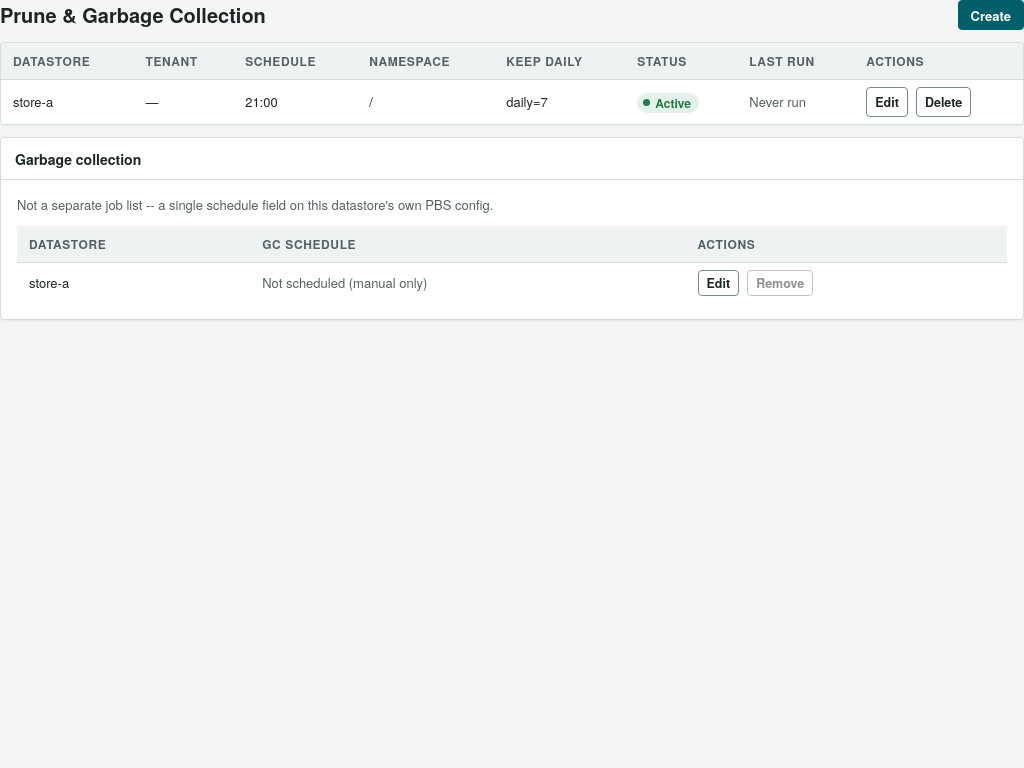
Scenario: JobsPruneGcPage › confirms a successful prune job delete
Expected: the text "21:00" is shown, [233,80,357,124]
Click the button "Delete": {"x": 944, "y": 102} [916,87,971,117]
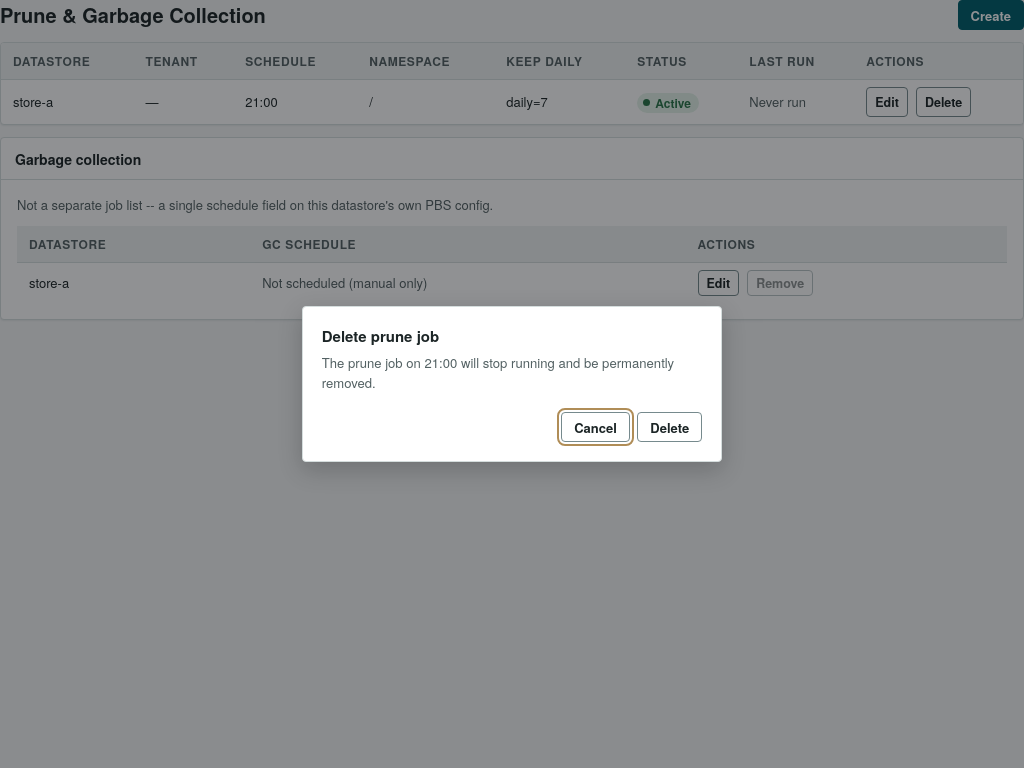
Click the button "Delete": {"x": 670, "y": 427} [637,412,702,442]
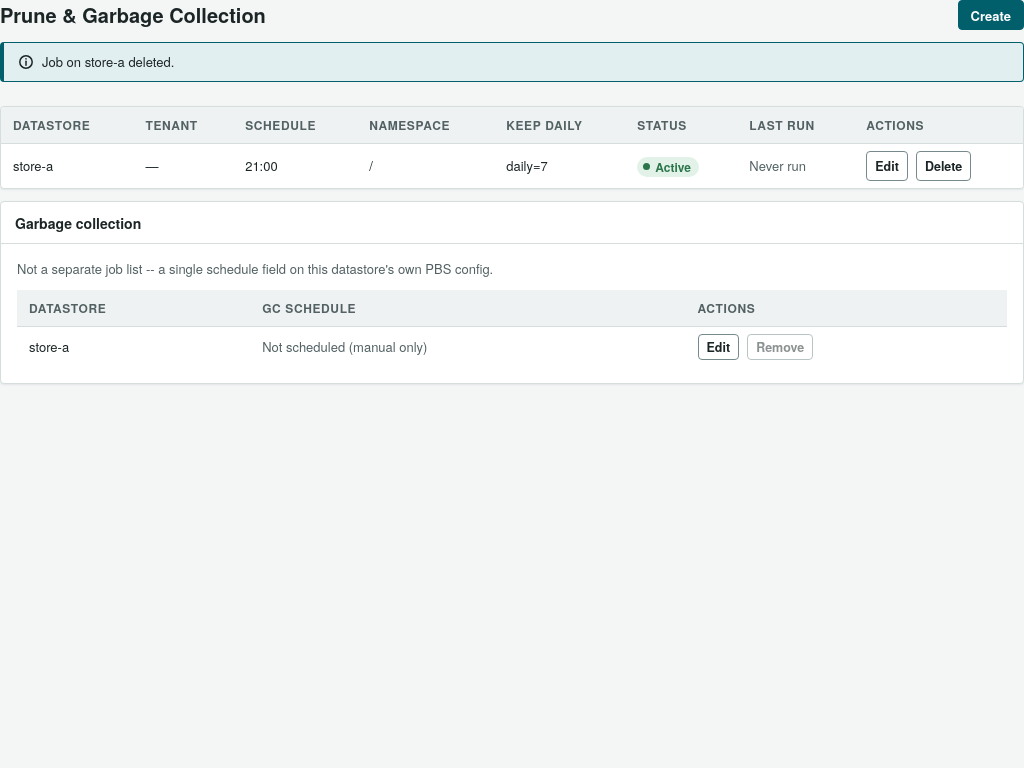
Now the text "Job on store-a deleted." is shown, box [42,53,174,71]
